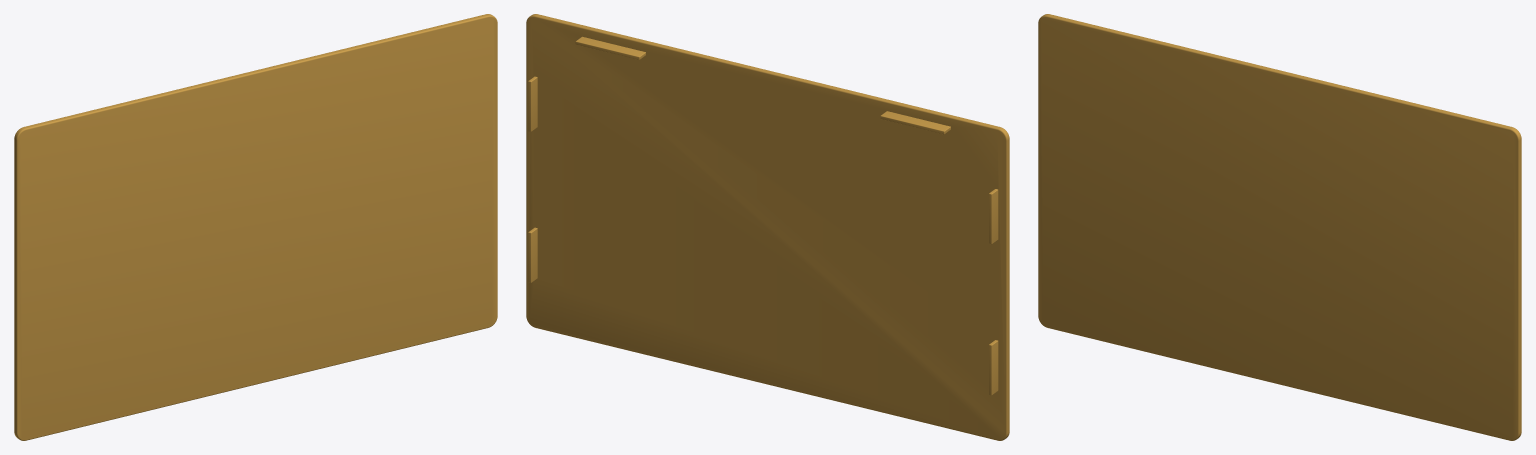
File: MCATR.glb
The picture shows the model from 3 angles, left to right: view 1: azimuth 30°, elevation 25°; view 2: azimuth 150°, elevation 25°; view 3: azimuth 330°, elevation 25°; orthographic projection.
Visible parts, largest first — view 1: MCATR_Gold; view 2: MCATR_Gold; view 3: MCATR_Gold.
Part boxes in pixels (<box>): MCATR_Gold: <box>14,14,497,440</box>; MCATR_Gold: <box>526,14,1009,440</box>; MCATR_Gold: <box>1038,14,1521,440</box>.
Bounding box in the file's own units: 300 × 186 × 10.4.
